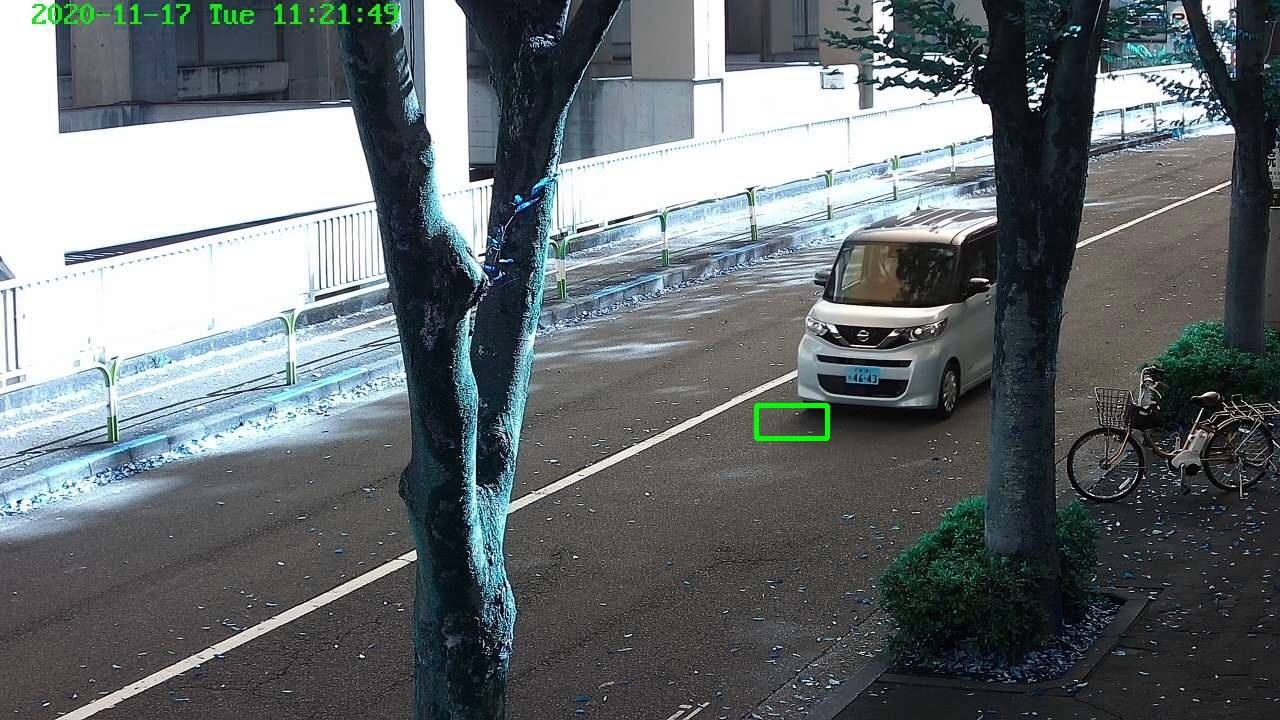number_plate: (844, 364, 880, 386)
